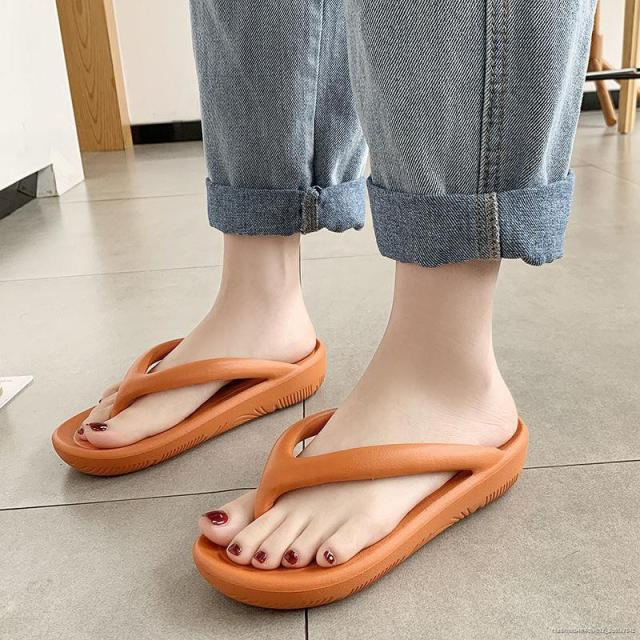Sandals: (49, 280, 533, 612)
